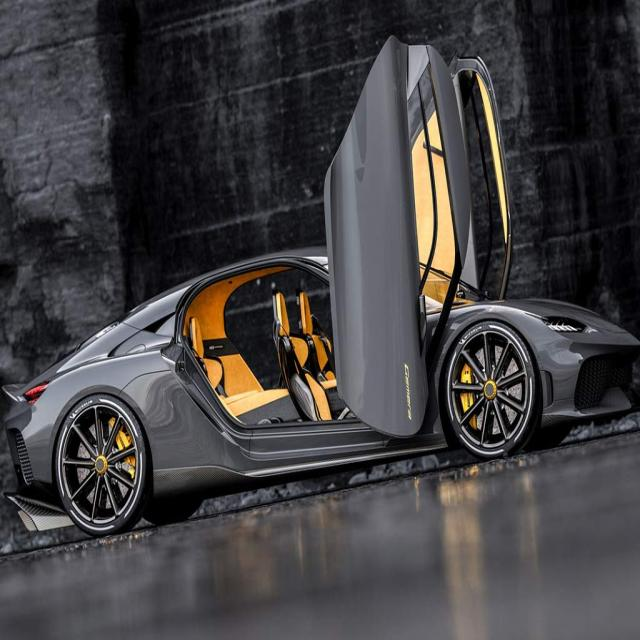car: (1, 34, 638, 538)
